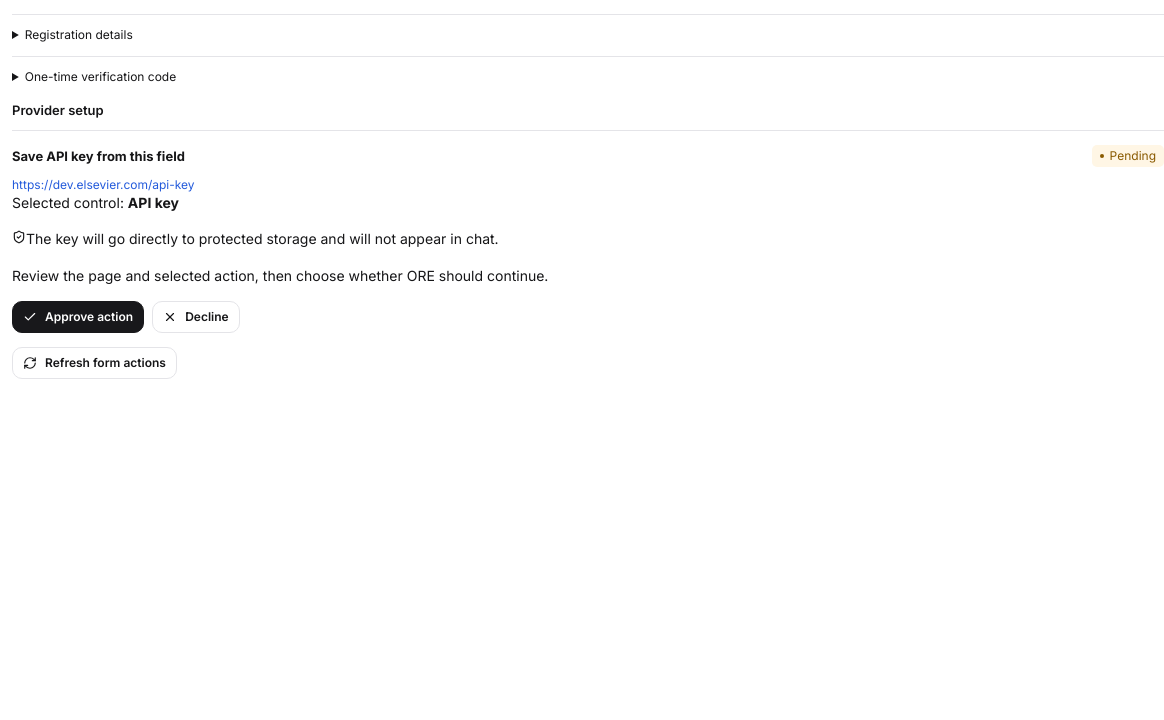
Test: sends a verification code only to protected setup storage and clears it immediately
Click the heading "One-time verification code": coordinates (100, 76) [25,69,176,84]
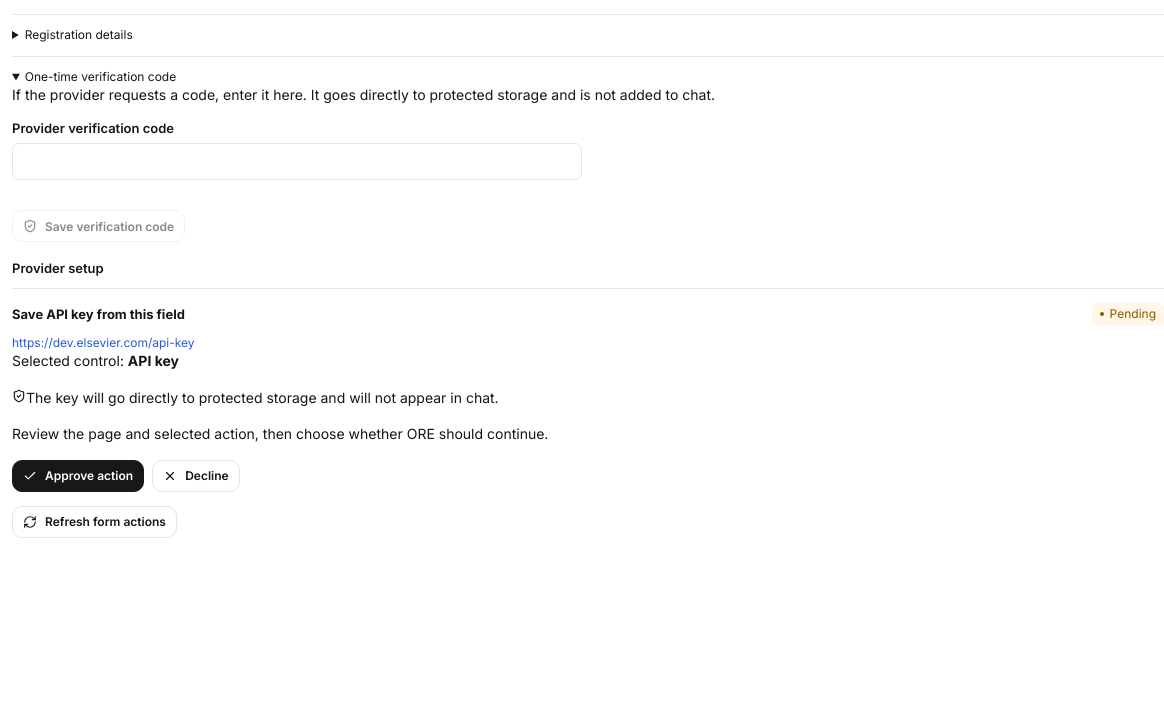
In the password field labelled "Provider verification code": coordinates (297, 162) [12,143,582,180], type "654321"
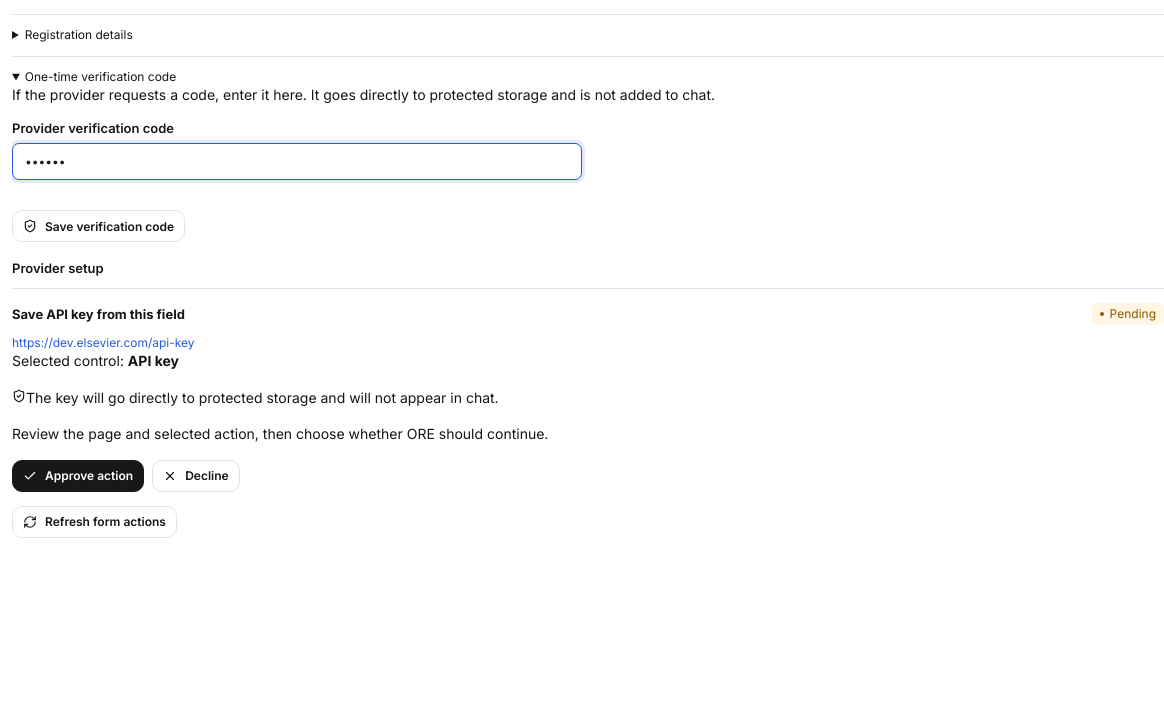
Click the button "Save verification code": coordinates (99, 226) [12,210,185,242]
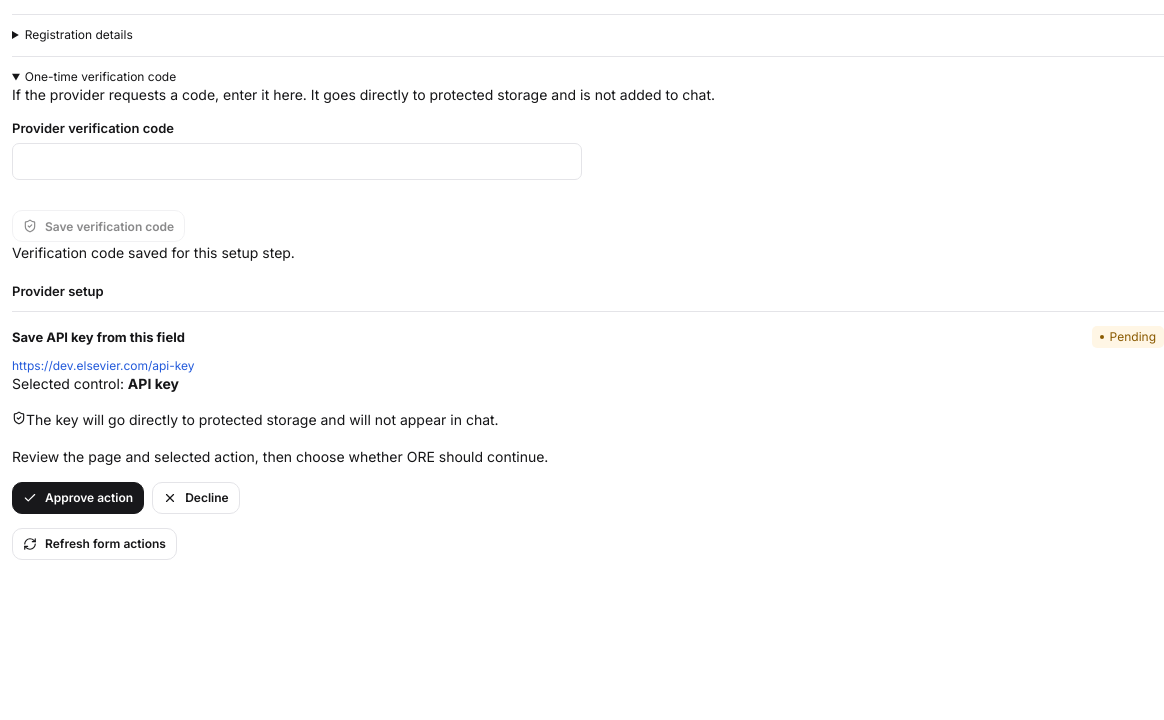
Check: the text "Verification code saved for this setup step." is shown, box [12,244,295,261]
Check: the password field labelled "Provider verification code" is empty, box [12,143,582,180]
